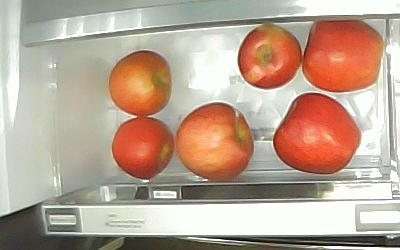apple: (272, 91, 362, 174), (176, 103, 254, 180), (301, 20, 383, 92), (108, 50, 171, 116), (238, 23, 301, 89), (112, 117, 173, 180)
